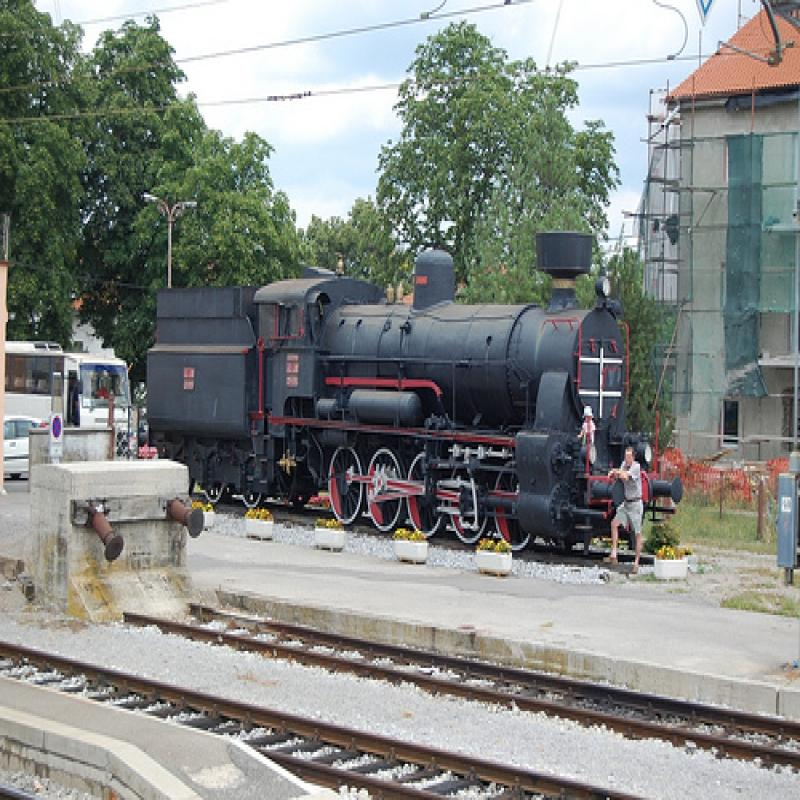train: (149, 232, 688, 556)
